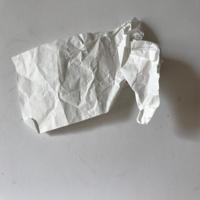paper: (9, 15, 166, 136)
